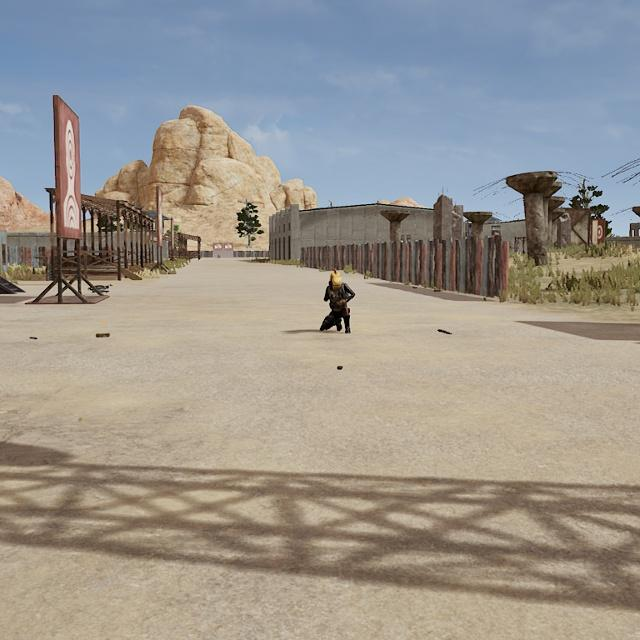head: (329, 270, 344, 289)
people: (318, 270, 355, 334)
